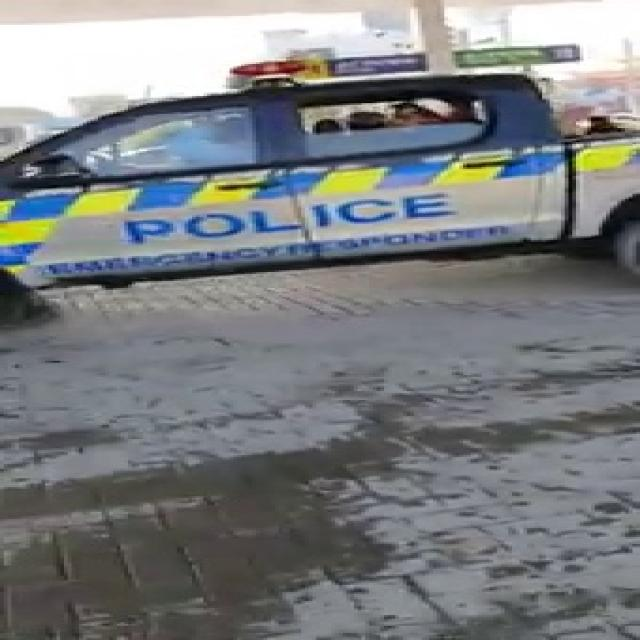police: (0, 48, 640, 265)
